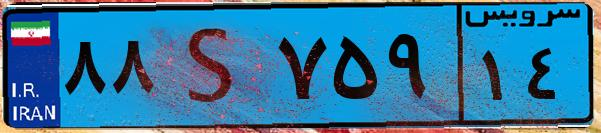1: (475, 38, 525, 113)
4: (525, 38, 570, 115)
5: (330, 28, 385, 110)
7: (270, 28, 330, 110)
8: (57, 26, 110, 100), (110, 28, 158, 98)
9: (385, 28, 445, 110)
S: (158, 12, 270, 120)
